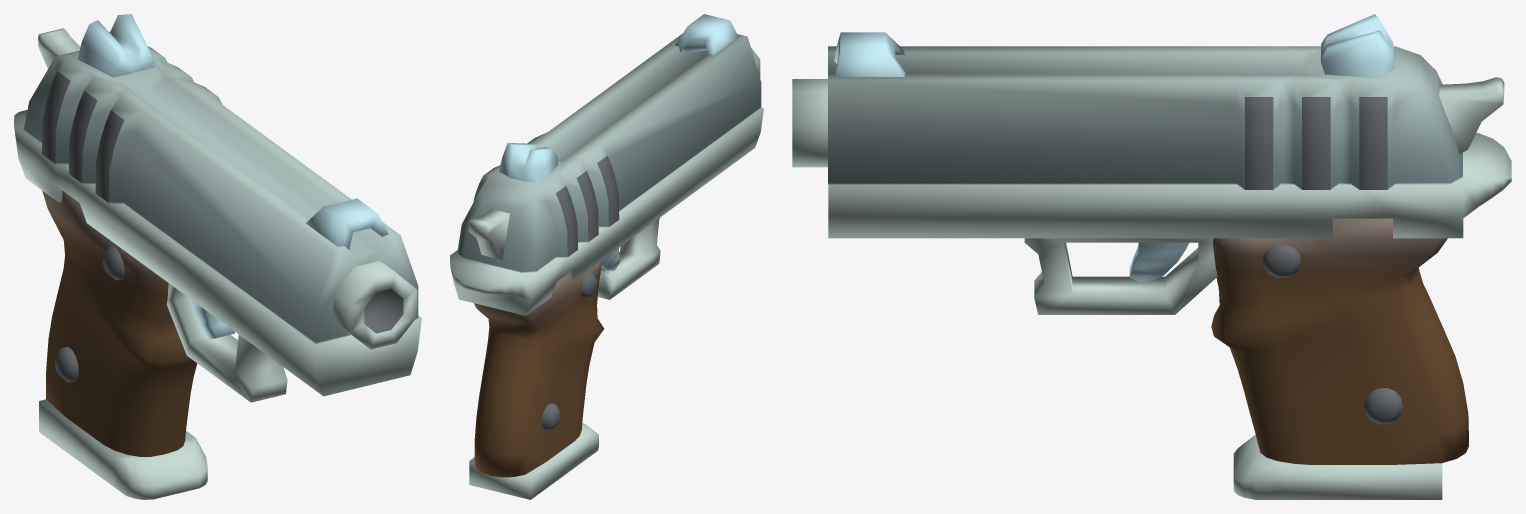
The model's file is Pistol06.fbx.
The picture shows the model from 3 angles, left to right: view 1: azimuth 30°, elevation 25°; view 2: azimuth 150°, elevation 25°; view 3: azimuth 270°, elevation 25°; orthographic projection. The views are drawn at different scales.
Parts seen in each view (by area): view 1: Pistol06_mesh; view 2: Pistol06_mesh; view 3: Pistol06_mesh.
Boxes of the visible parts, left/top/right/bottom form: Pistol06_mesh: left=14, top=14, right=421, bottom=499; Pistol06_mesh: left=450, top=14, right=763, bottom=499; Pistol06_mesh: left=792, top=14, right=1511, bottom=499.
Bounding box in the file's own units: 10.95 × 35.74 × 51.3.
